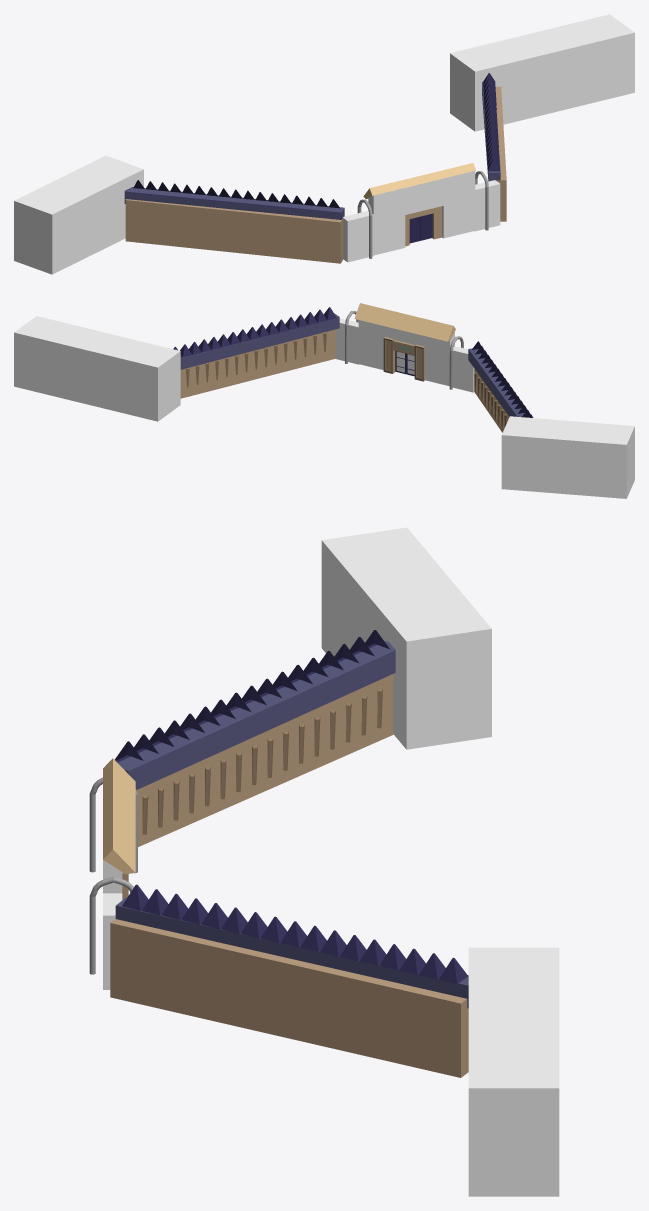
Rendered from vorota ishtarDoor.gltf.
3 views of the same model, one above another, from view 1: azimuth 30°, elevation 25°; view 2: azimuth 150°, elevation 25°; view 3: azimuth 270°, elevation 25° (orthographic). The views are drawn at different scales.
Visible parts, largest first — view 1: Cube.005; view 2: Cube.005; view 3: Cube.005.
Part boxes in pixels (x1=…): Cube.005: x1=14, y1=14, x2=634, y2=274; Cube.005: x1=14, y1=303, x2=634, y2=498; Cube.005: x1=89, y1=527, x2=559, y2=1196.
Size of the model in its own units: 447 by 44.34 by 158.
